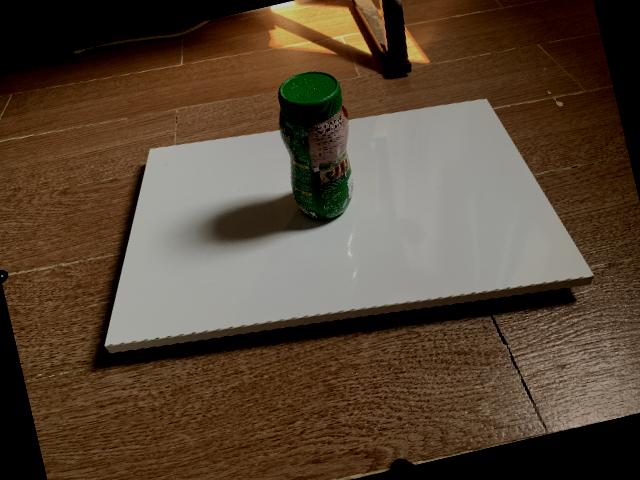milo: (278, 71, 353, 219)
